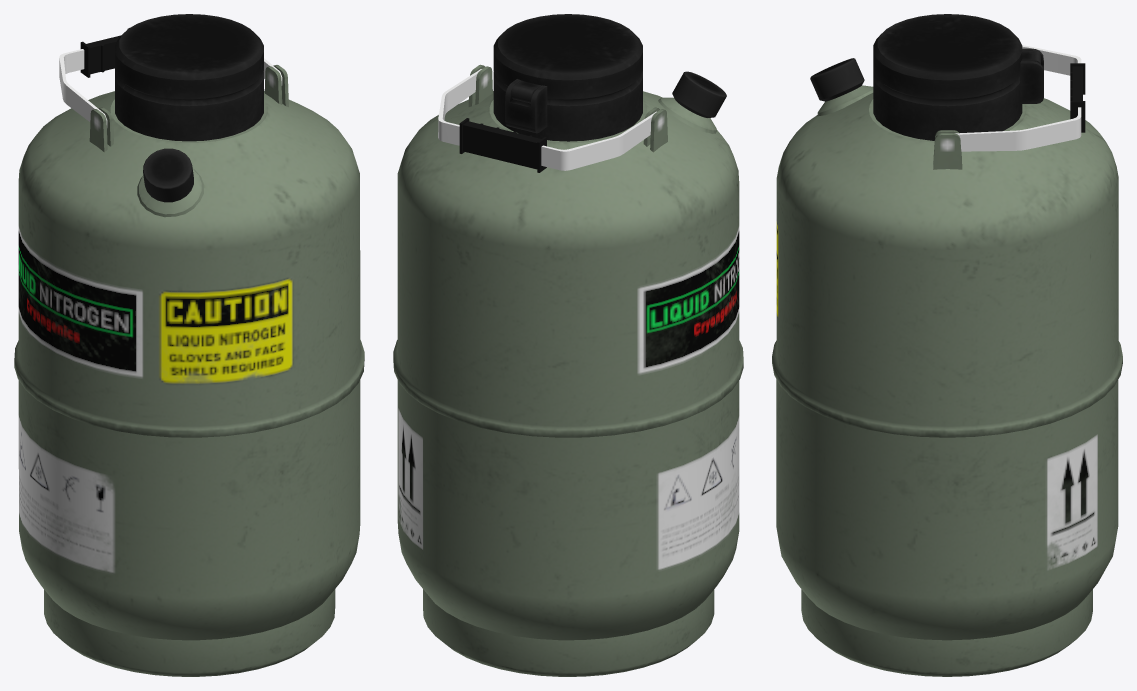
Rendered from SM_摆件桶_001.fbx.
3 views of the same model, side by side, from view 1: azimuth 30°, elevation 25°; view 2: azimuth 150°, elevation 25°; view 3: azimuth 270°, elevation 25° (orthographic).
Parts seen in each view (by area): view 1: SM_摆件桶_001; view 2: SM_摆件桶_001; view 3: SM_摆件桶_001.
Boxes of the visible parts, bbox=[...] form: SM_摆件桶_001: bbox=[14, 14, 364, 676]; SM_摆件桶_001: bbox=[393, 14, 743, 676]; SM_摆件桶_001: bbox=[772, 14, 1122, 676].
Bounding box in the file's own units: 337 × 337 × 610.
